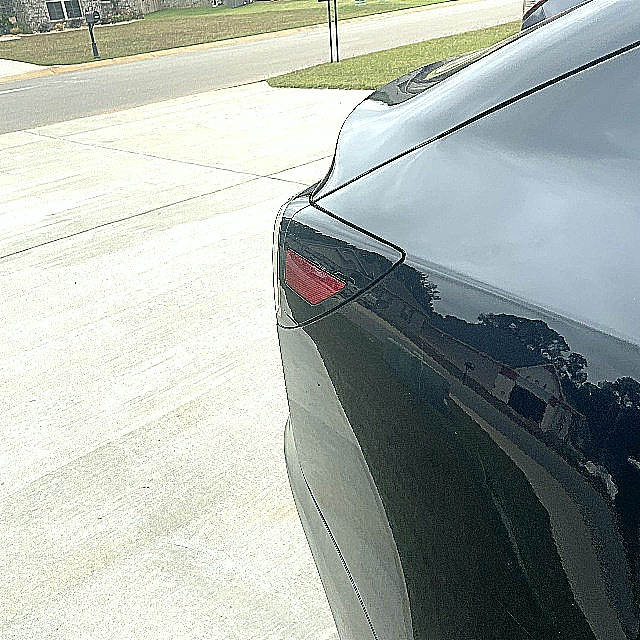reflector: (285, 248, 346, 305)
